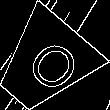O_SW: (10, 31, 78, 98)
